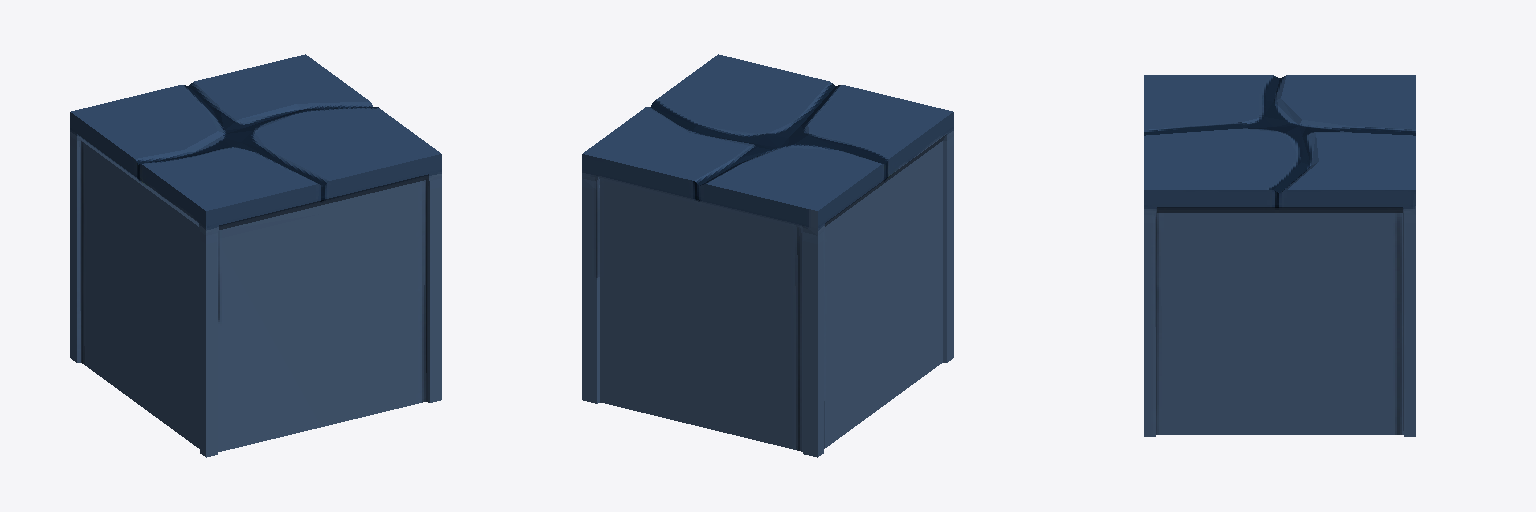
3 renders of one model, left to right at view 1: azimuth 30°, elevation 25°; view 2: azimuth 150°, elevation 25°; view 3: azimuth 270°, elevation 25°, orthographic.
Visible parts, largest first — view 1: TileV1; view 2: TileV1; view 3: TileV1.
Part boxes in pixels (x1,y1,x2,y2): TileV1: (70,54,441,457); TileV1: (582,54,953,457); TileV1: (1144,75,1415,436).
Bounding box in the file's own units: 5 × 5 × 5.
Materials: 1 (1 with a texture image).